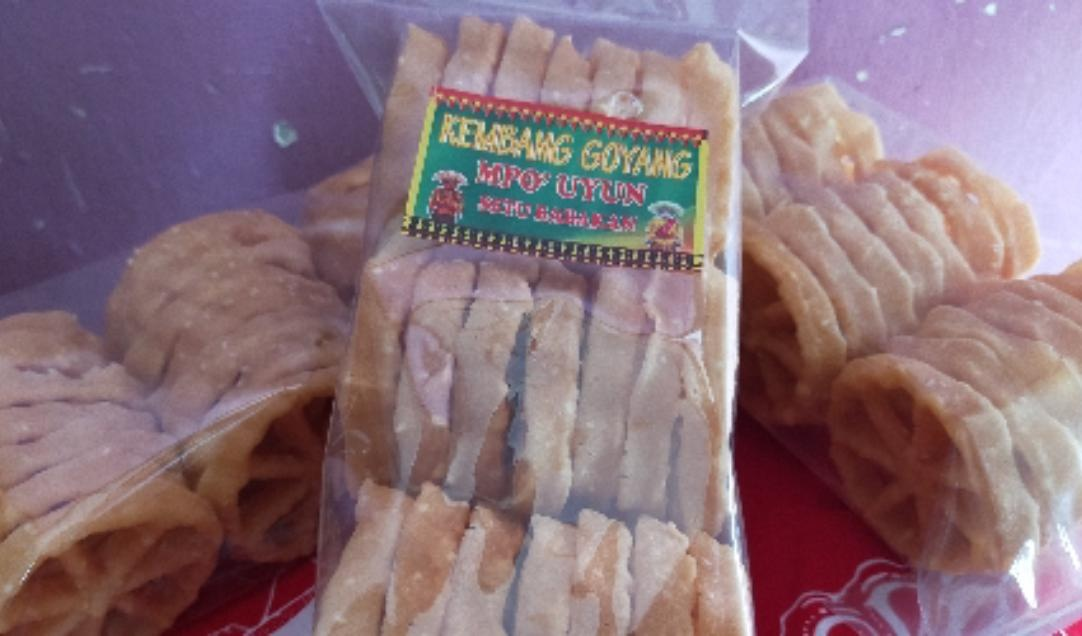kembang_goyang: (808, 342, 1023, 589)
